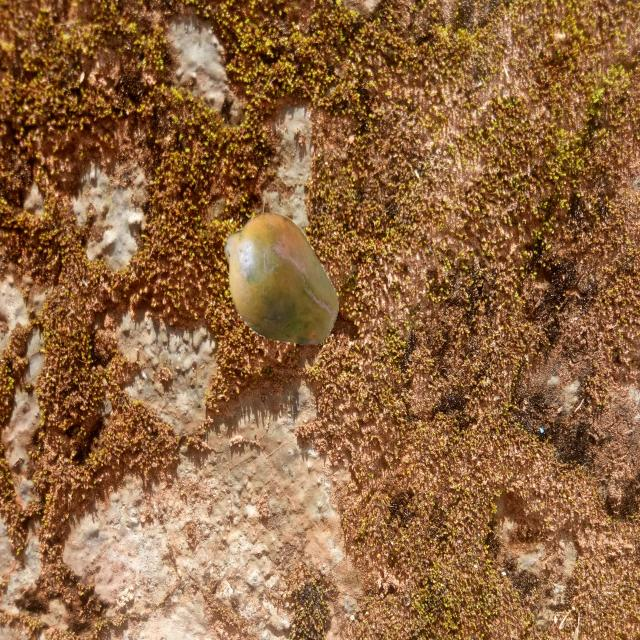Pepaya rippen: (219, 204, 344, 352)
